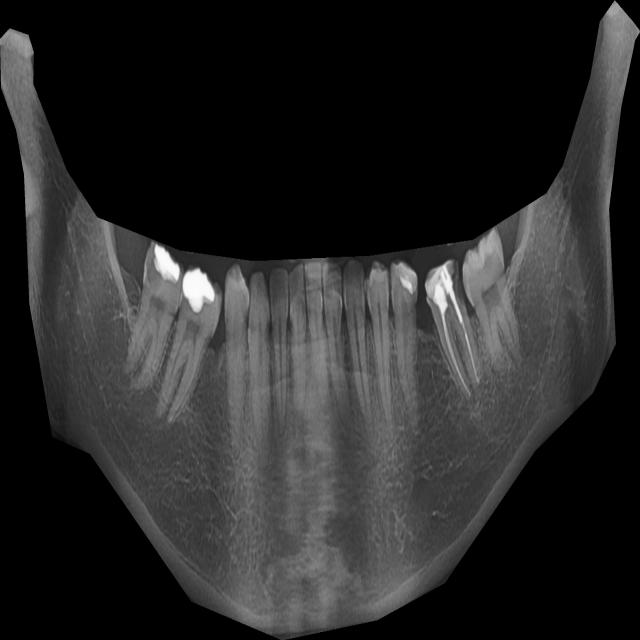mandibula: (0, 0, 640, 640)
